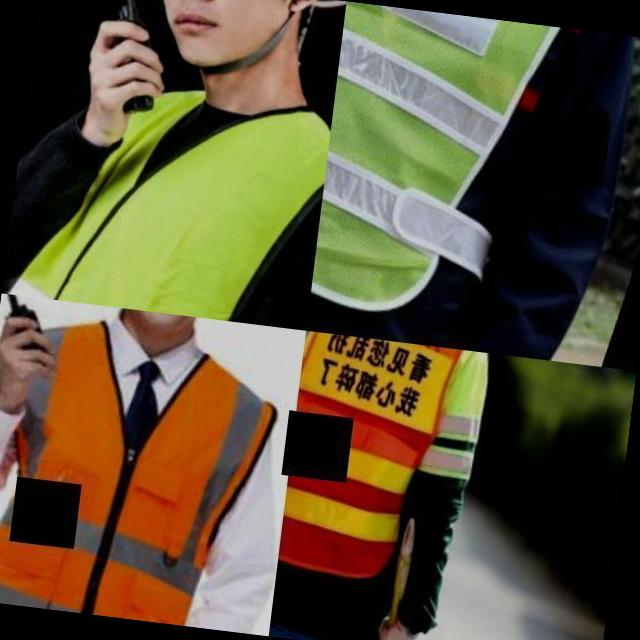vest: (1, 31, 338, 330), (306, 1, 582, 359), (0, 293, 289, 634), (276, 330, 477, 596)
